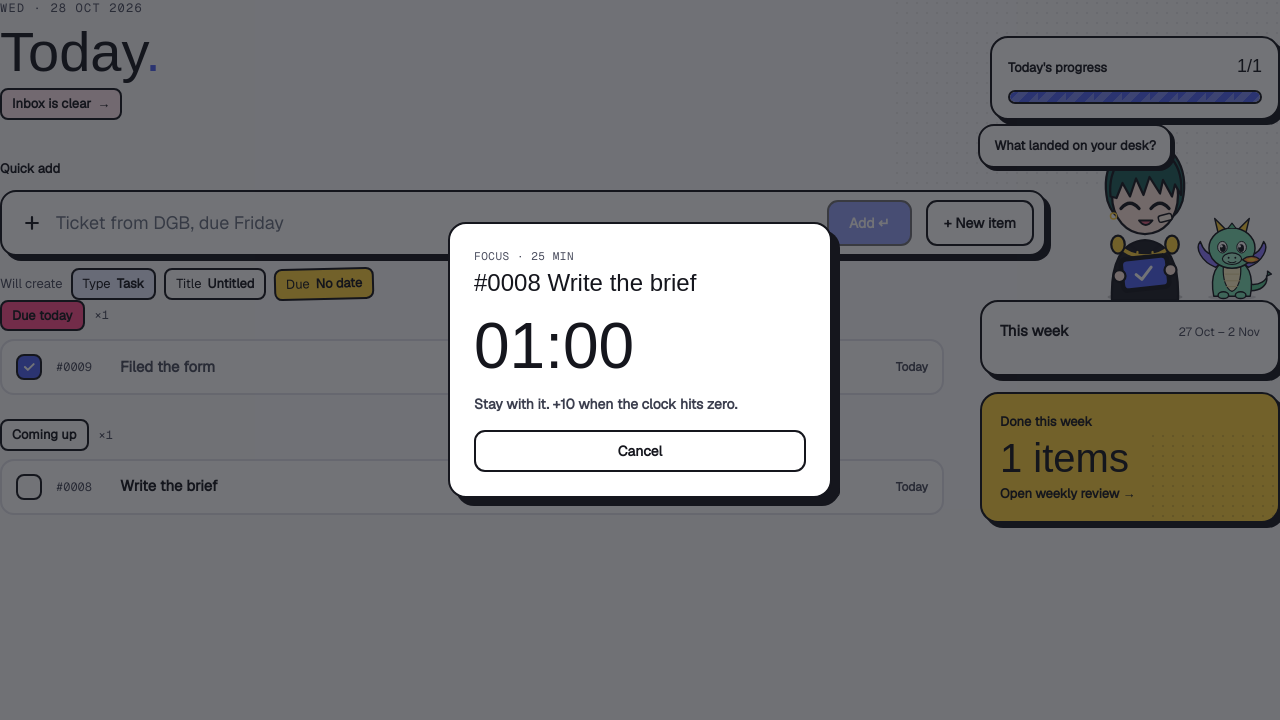
Today focus › cancels a restored timer without a token gain
Expected: the dialog is shown, [448, 222, 832, 498]
Click the button "Cancel". click: coordinates (640, 451)
box: [474, 430, 806, 472]
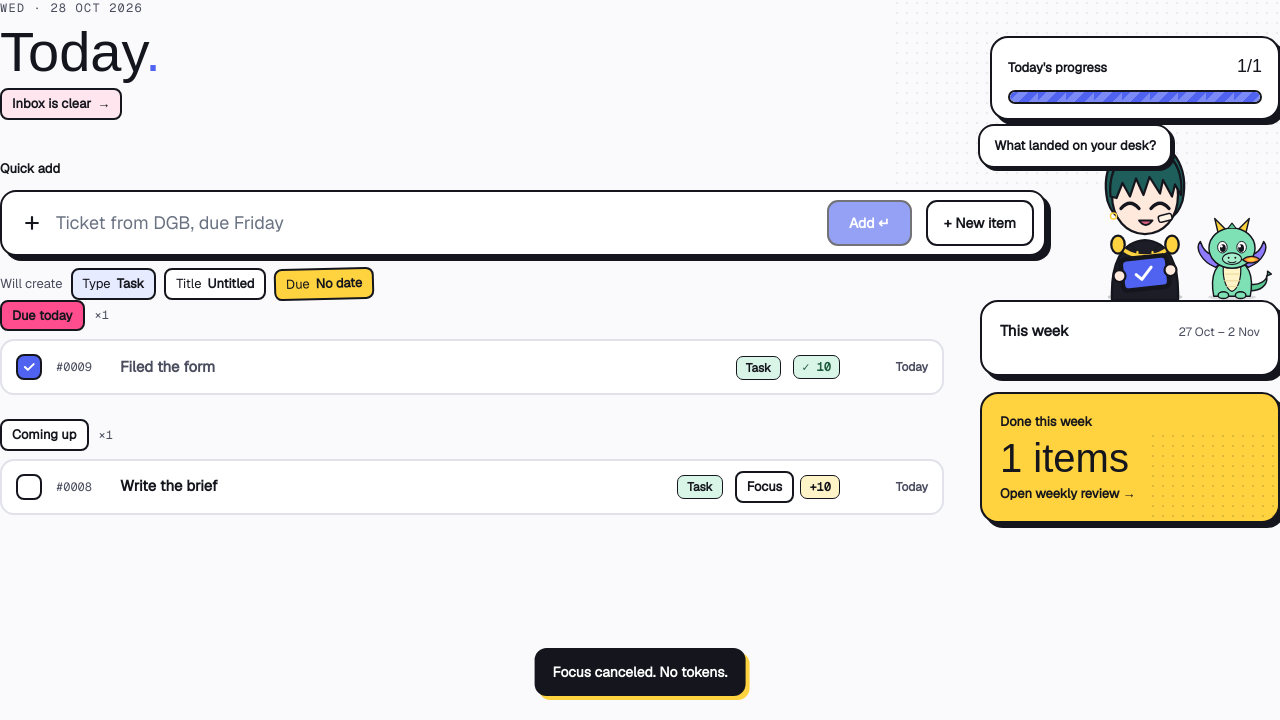
Now the text "Focus canceled. No tokens." is shown, box [535, 648, 745, 696]
